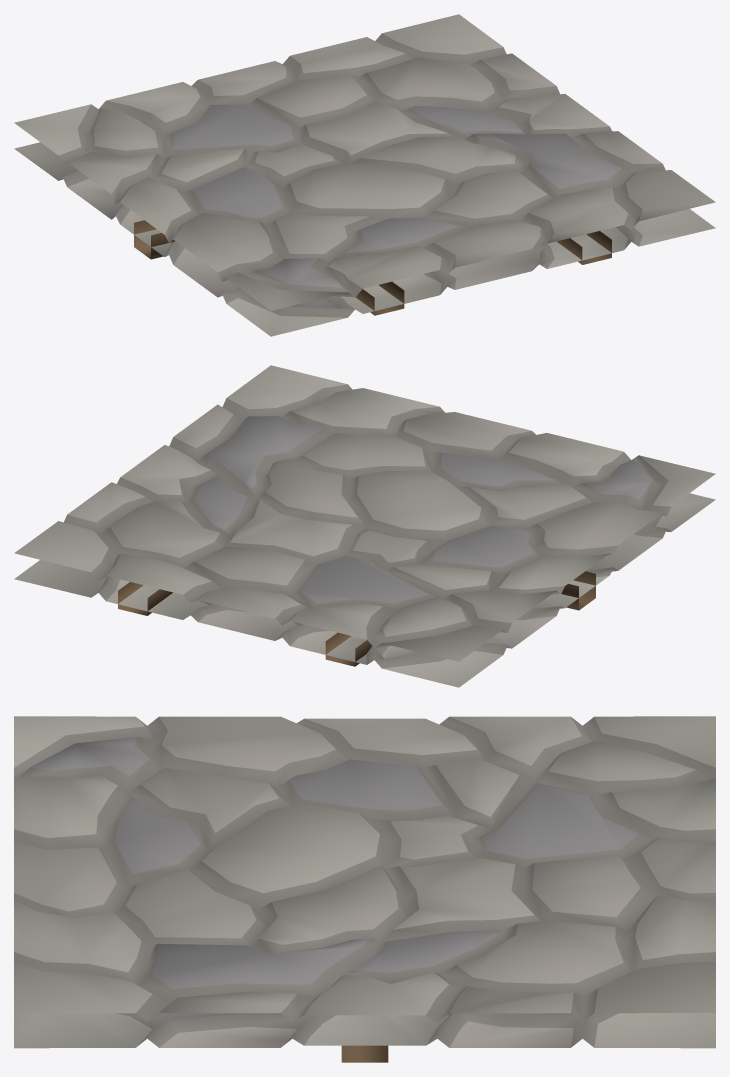
The model's file is rpgpp_ag_floor_03a_3x3_2side.fbx.
The picture shows the model from 3 angles, top to bottom: view 1: azimuth 30°, elevation 25°; view 2: azimuth 150°, elevation 25°; view 3: azimuth 270°, elevation 25°; orthographic projection. The views are drawn at different scales.
Visible parts, largest first — view 1: rpgpp_ag_floor_03a_3x3_2side; view 2: rpgpp_ag_floor_03a_3x3_2side; view 3: rpgpp_ag_floor_03a_3x3_2side.
Boxes of the visible parts, box(x1,y1,x2,y2) form: rpgpp_ag_floor_03a_3x3_2side: box(14, 14, 715, 336); rpgpp_ag_floor_03a_3x3_2side: box(14, 365, 715, 687); rpgpp_ag_floor_03a_3x3_2side: box(14, 716, 715, 1062).
Size of the model in its own units: 3 by 0.2349 by 3.
